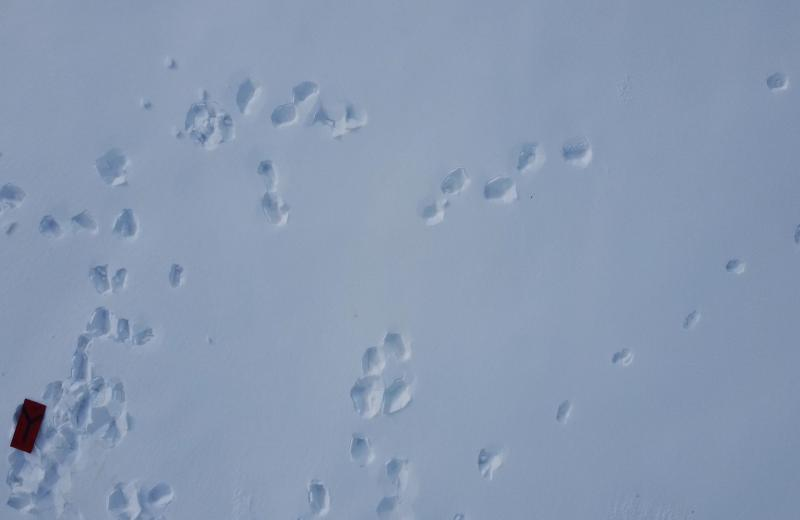Rectangle: (12, 397, 47, 455)
